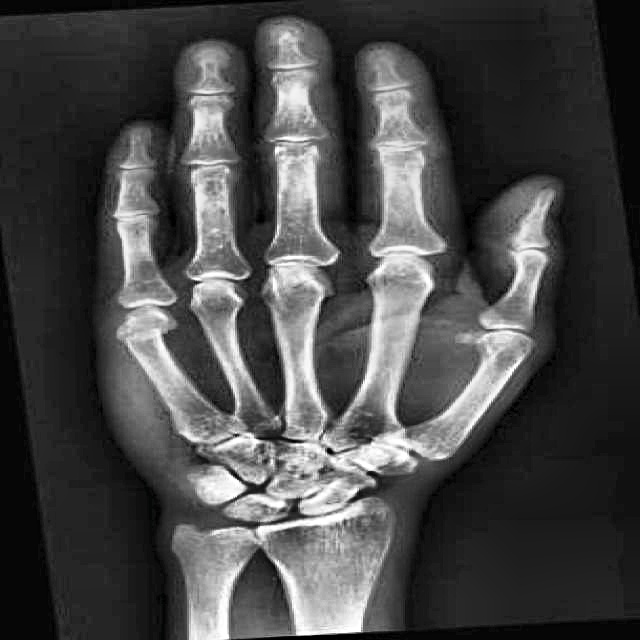Comminuted: (102, 311, 178, 350)
